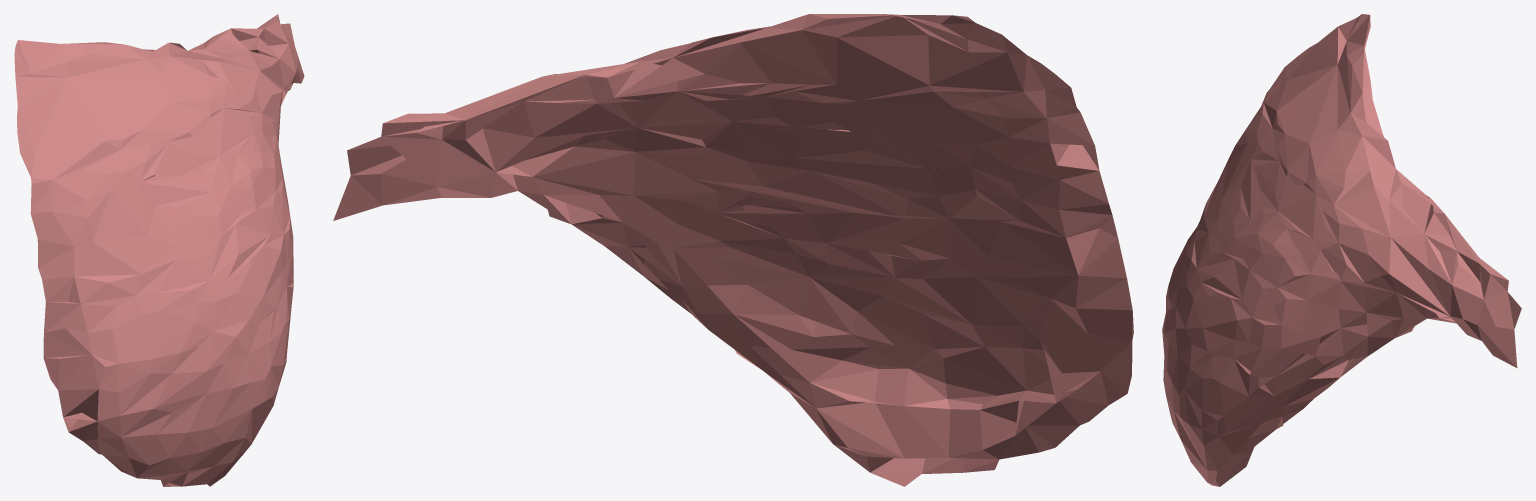
Rendered from Sternocostal_head_of_pectoralis_major_muscle.l.glb.
The picture shows the model from 3 angles, left to right: view 1: azimuth 30°, elevation 25°; view 2: azimuth 150°, elevation 25°; view 3: azimuth 270°, elevation 25°; orthographic projection. The views are drawn at different scales.
Visible parts, largest first — view 1: Sternocostal_head_of_pectoralis_major_muscle.l; view 2: Sternocostal_head_of_pectoralis_major_muscle.l; view 3: Sternocostal_head_of_pectoralis_major_muscle.l.
Boxes of the visible parts, <box> form: Sternocostal_head_of_pectoralis_major_muscle.l: <box>14,14,304,486</box>; Sternocostal_head_of_pectoralis_major_muscle.l: <box>333,14,1133,486</box>; Sternocostal_head_of_pectoralis_major_muscle.l: <box>1162,14,1521,486</box>.
Bounding box in the file's own units: 0.1852 × 0.1793 × 0.1406.
